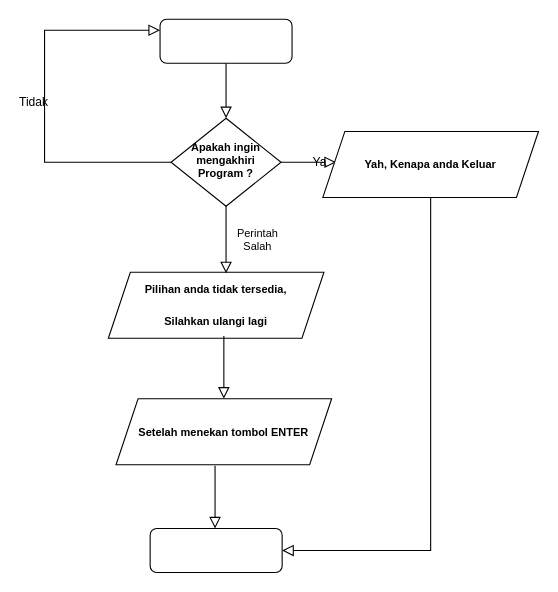
This 558x592 diagram has some shape labels left out. The shapes that lost their labels are listed below. From the top down, each one's centre as x and y in pixels, then its label:
the point at 225,40: Mulai
the point at 215,550: Selesai
